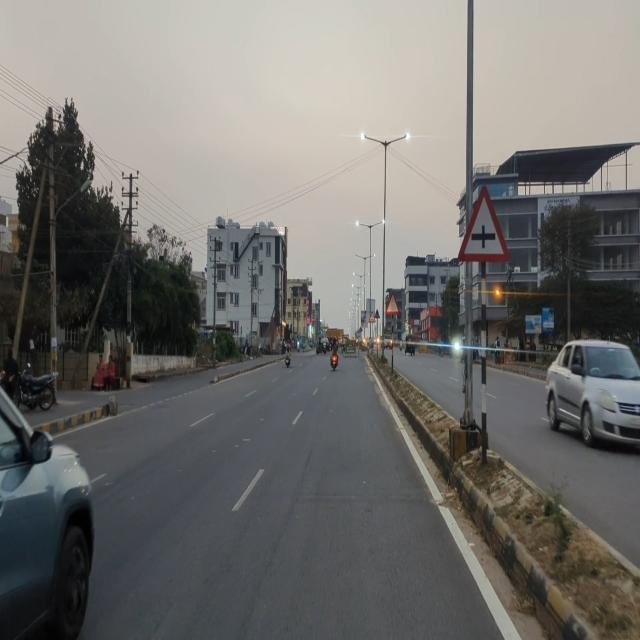bien_cam: (457, 178, 511, 263), (385, 291, 401, 317), (368, 310, 376, 323)
